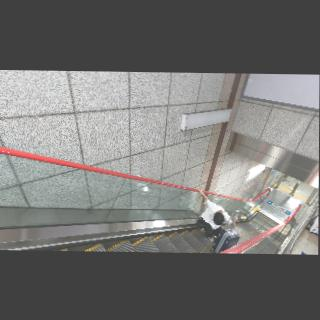anomaly: (196, 189, 241, 241)
